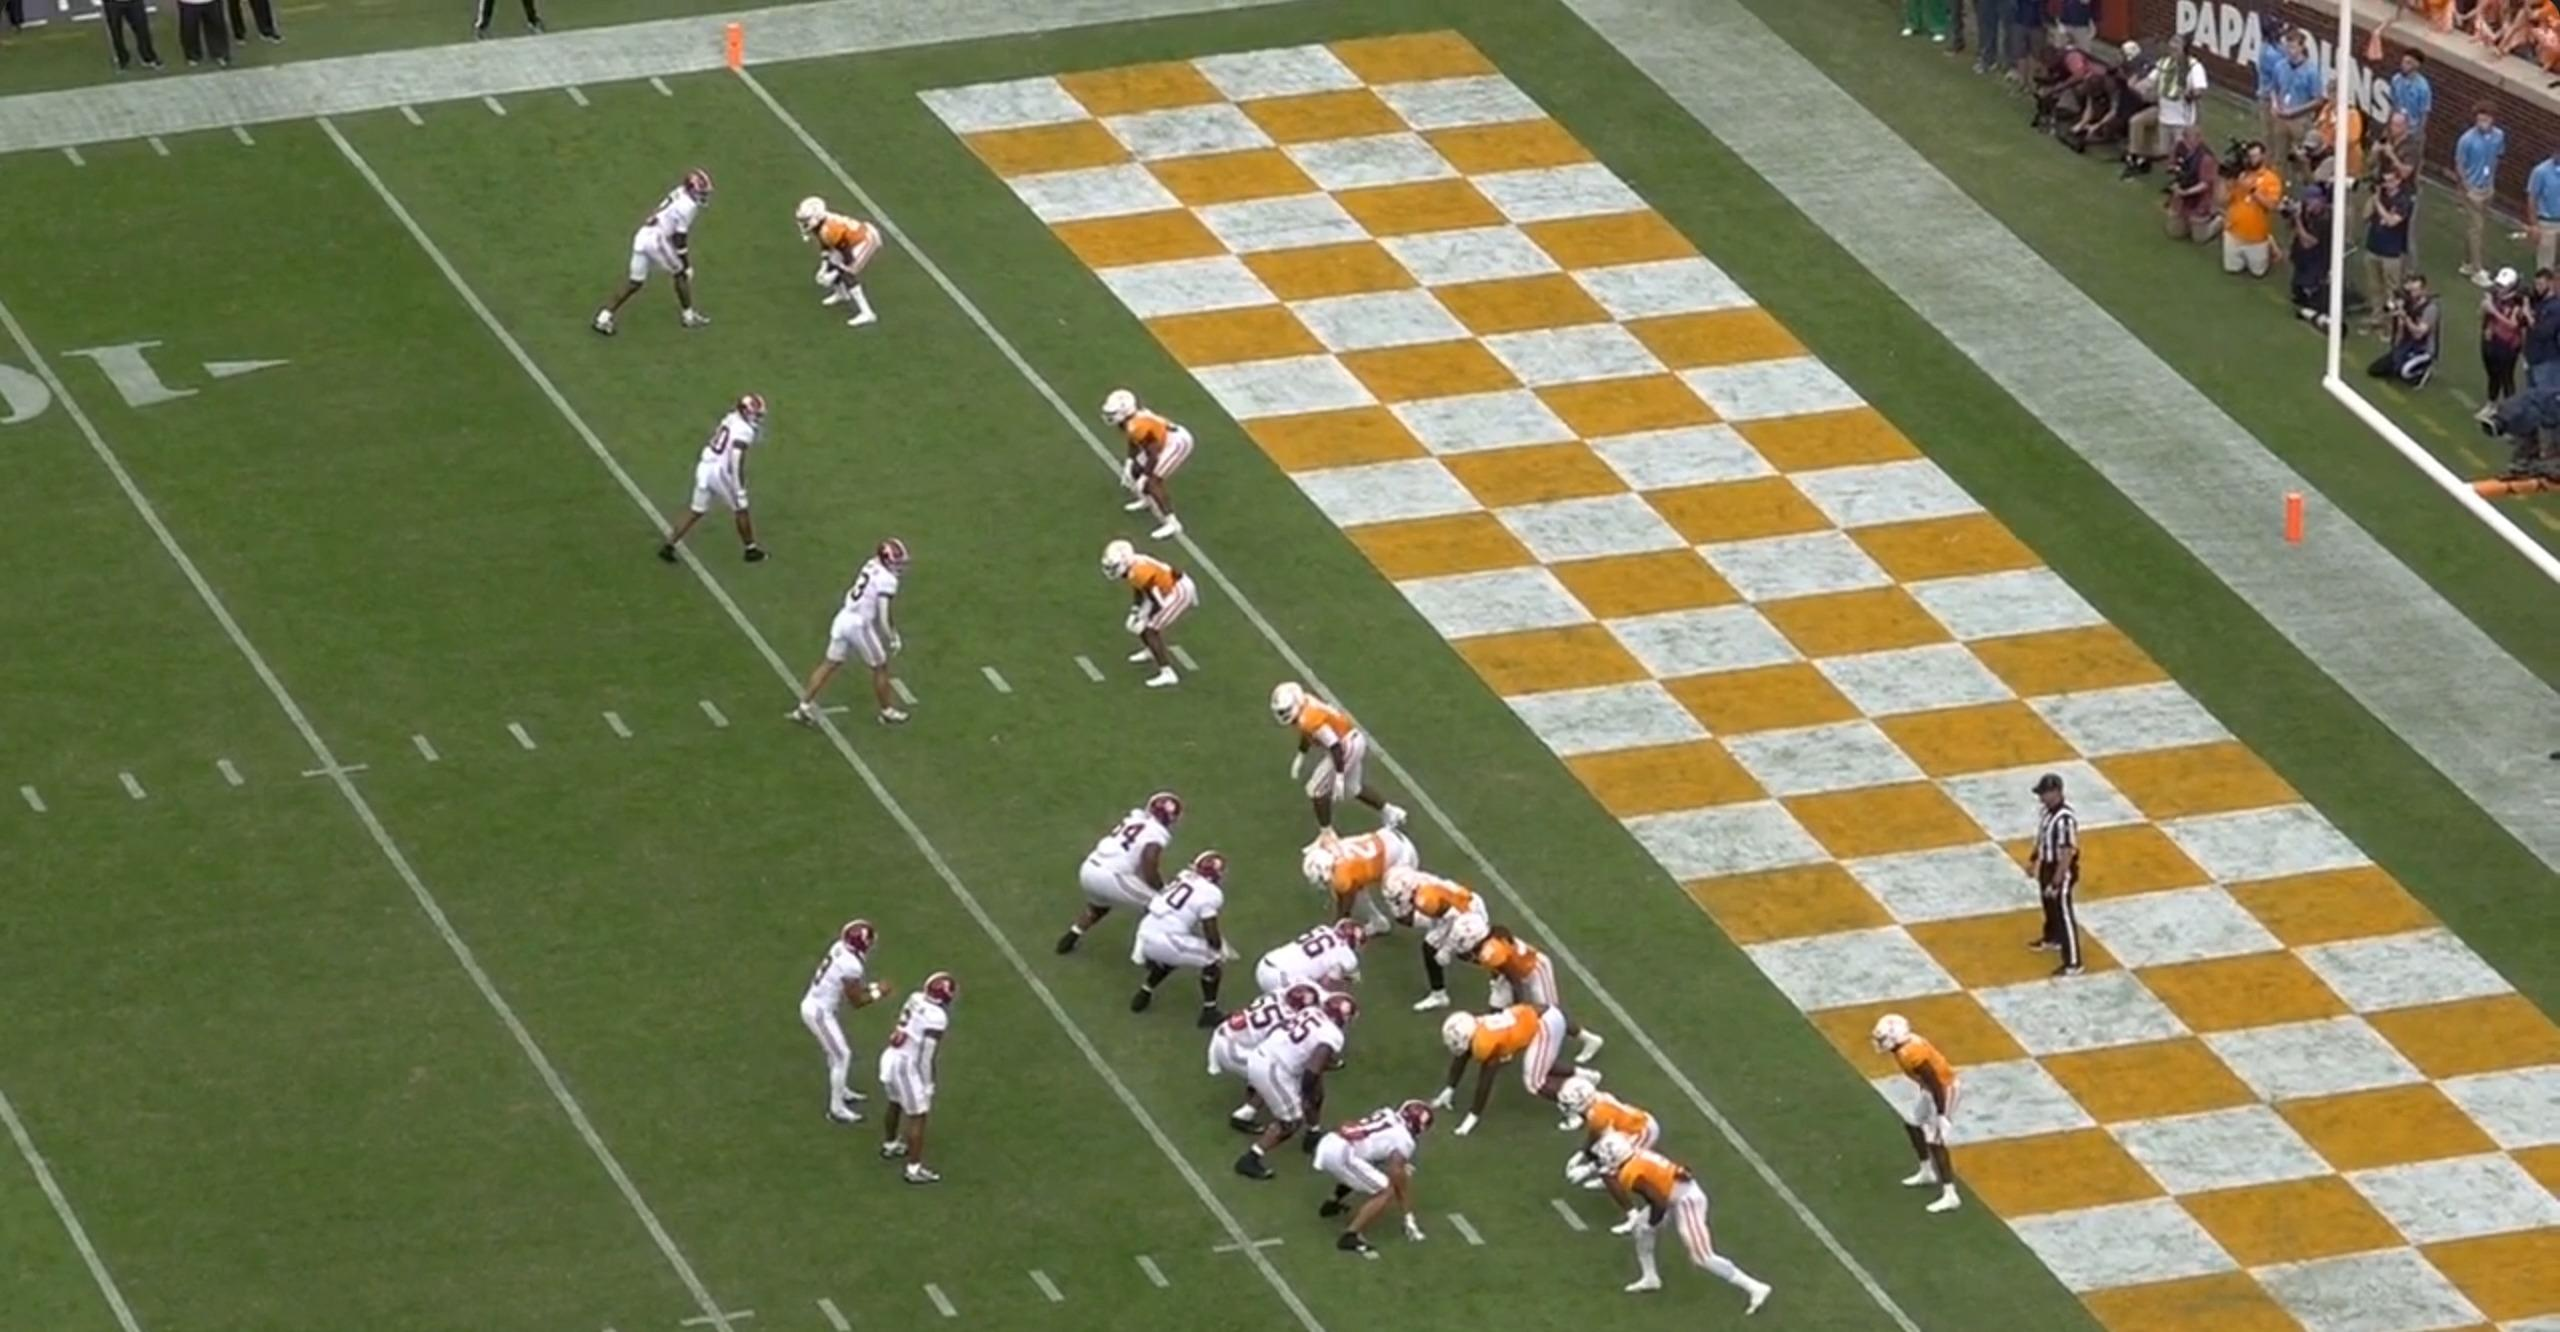defense: (1590, 1137, 1774, 1318), (1429, 1002, 1608, 1137), (1263, 674, 1409, 839), (1873, 1009, 1974, 1227), (1454, 916, 1605, 1058), (1378, 860, 1495, 1010), (1094, 381, 1199, 542), (1094, 537, 1199, 697), (1292, 824, 1419, 949), (787, 190, 887, 335), (1554, 1073, 1661, 1193)
oline: (1229, 992, 1371, 1180), (1046, 789, 1192, 970), (1109, 846, 1244, 1034), (1204, 970, 1319, 1129), (1253, 912, 1373, 1022)
qb: (792, 916, 889, 1134)
ref: (2020, 768, 2094, 985)
skill: (791, 540, 930, 740), (655, 394, 784, 582), (593, 166, 726, 345), (863, 963, 965, 1190), (1302, 1098, 1431, 1263)
